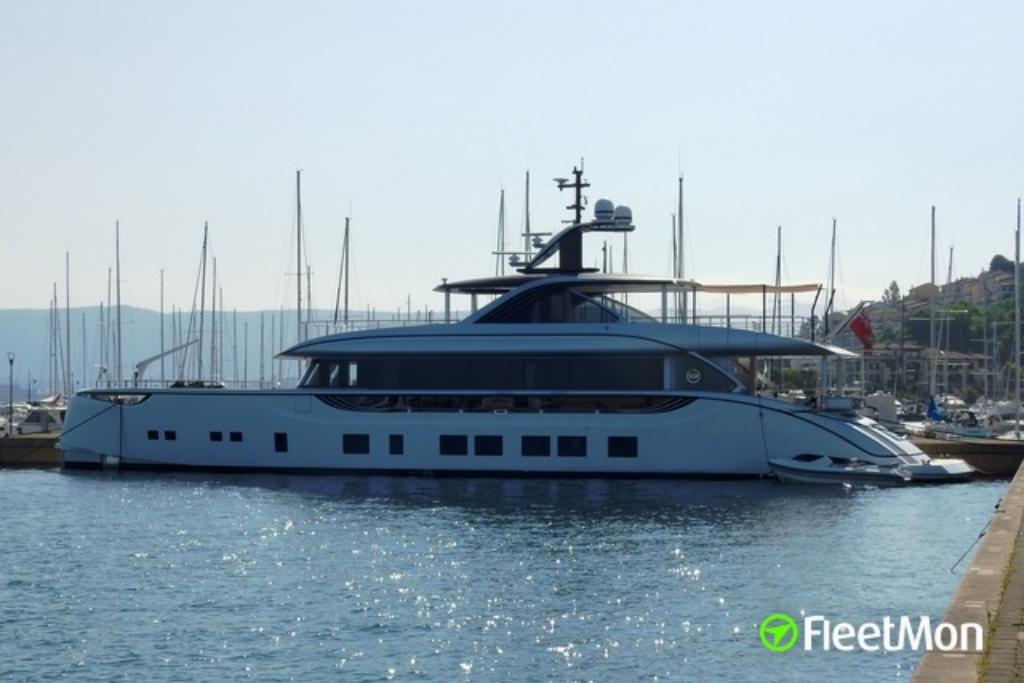PassengerShip: (54, 165, 978, 475)
